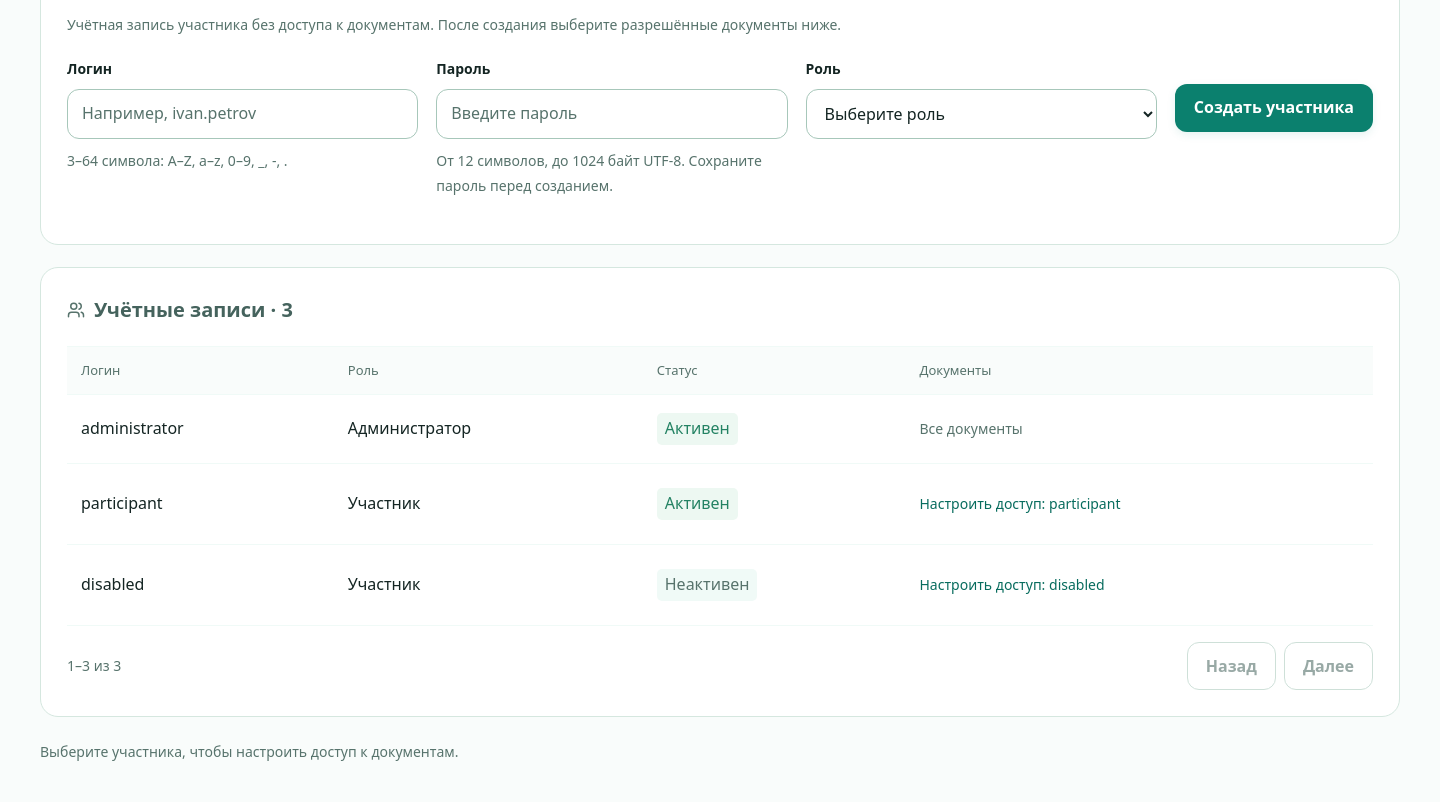
Test case: selected user document access › grants and revokes using existing endpoints and refreshes current permissions
(page scrolled)
Click the button "Настроить доступ: participant" at (1020, 504), box x1=919 y1=482 x2=1120 y2=526
(page scrolled)
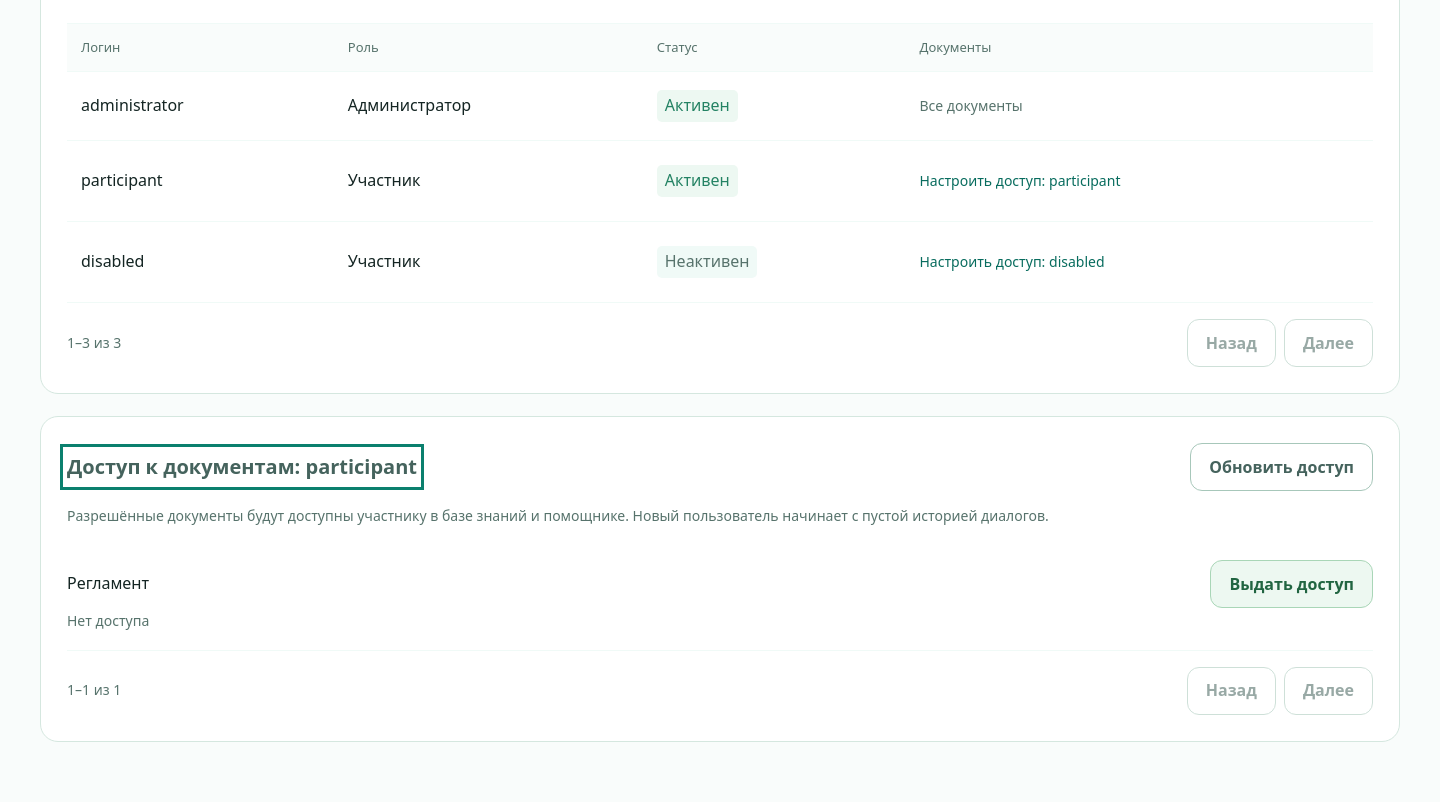
Now the button "Выдать доступ" is shown
Click the button "Выдать доступ" at (1292, 584), box x1=1210 y1=560 x2=1373 y2=608
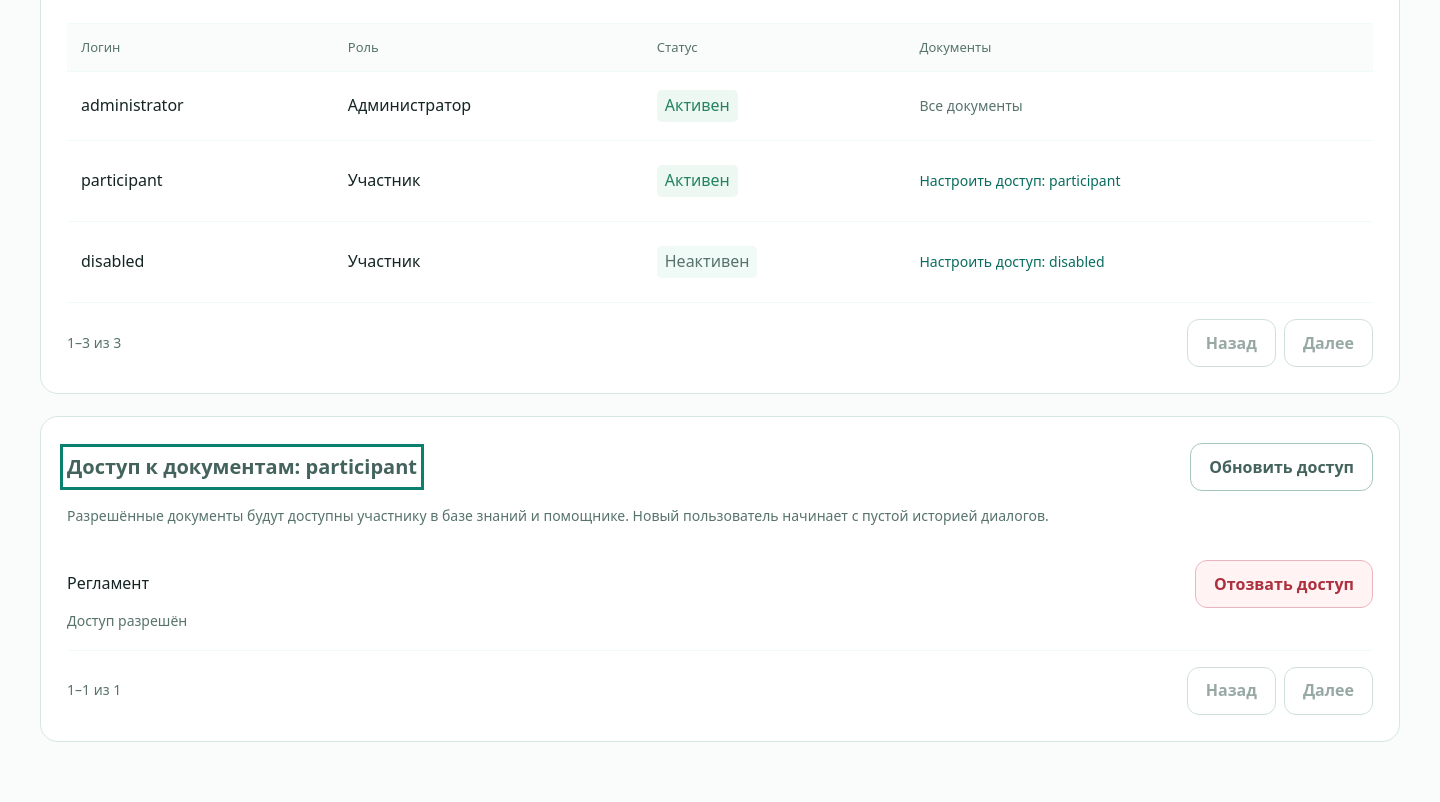
Now the text "Доступ разрешён" is shown, box x1=67 y1=611 x2=187 y2=630
Now the button "Отозвать доступ" is shown
Click the button "Отозвать доступ" at (1284, 584), box x1=1195 y1=560 x2=1373 y2=608
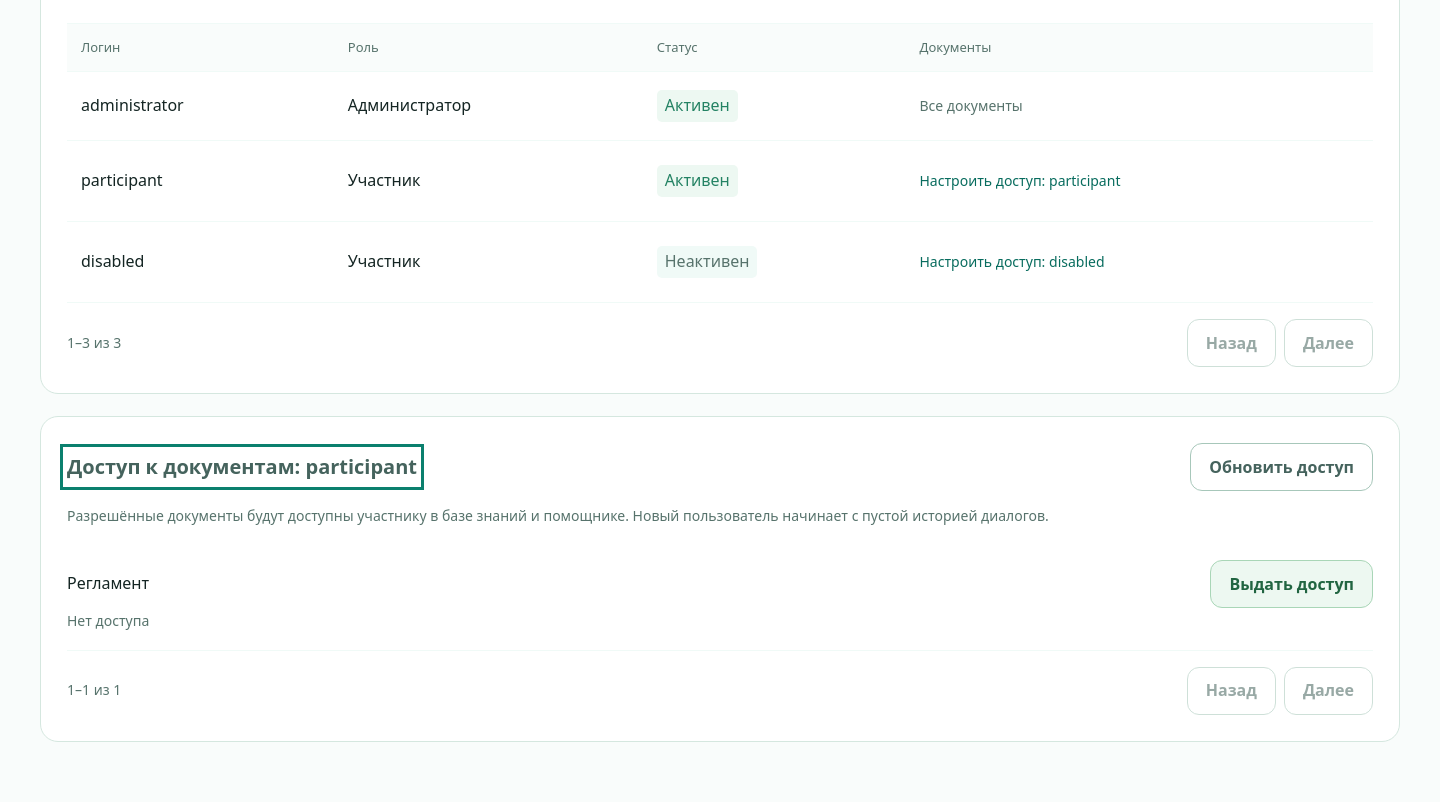
Now the text "Нет доступа" is shown, box x1=67 y1=611 x2=149 y2=630
